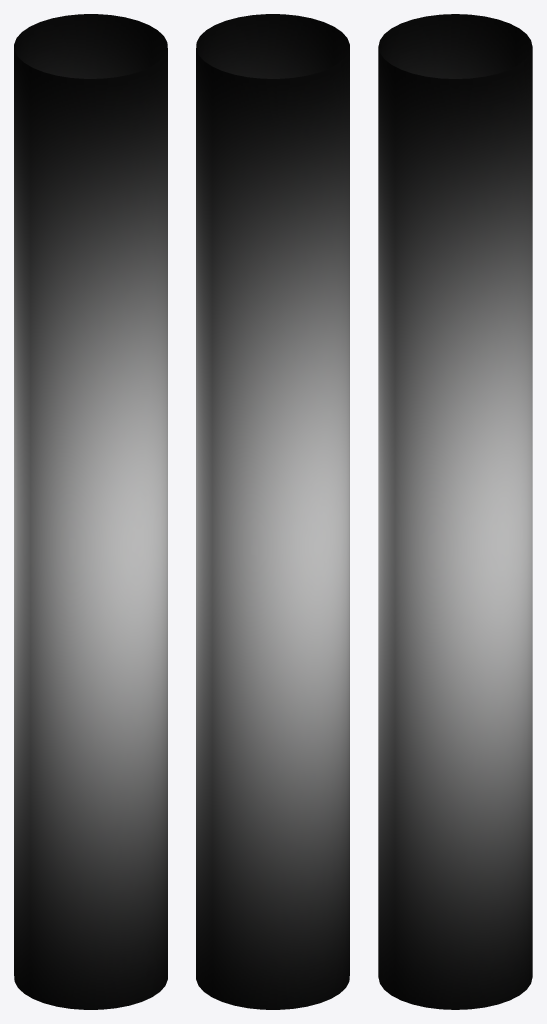
The model's file is Marker.fbx.
3 renders of one model, left to right at view 1: azimuth 30°, elevation 25°; view 2: azimuth 150°, elevation 25°; view 3: azimuth 270°, elevation 25°, orthographic.
Visible parts, largest first — view 1: Цилиндр; view 2: Цилиндр; view 3: Цилиндр.
Part boxes in pixels (box(x1,y1,x2,y2)): Цилиндр: box(14, 14, 167, 1009); Цилиндр: box(196, 14, 349, 1009); Цилиндр: box(378, 14, 532, 1009).
Size of the model in its own units: 30 by 200 by 30.
1 material, 1 textured.
